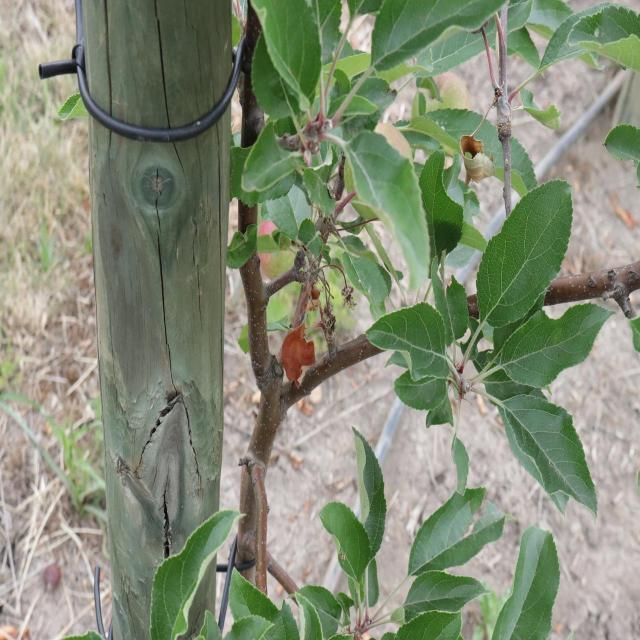-FireBlight-: (282, 278, 328, 388)
